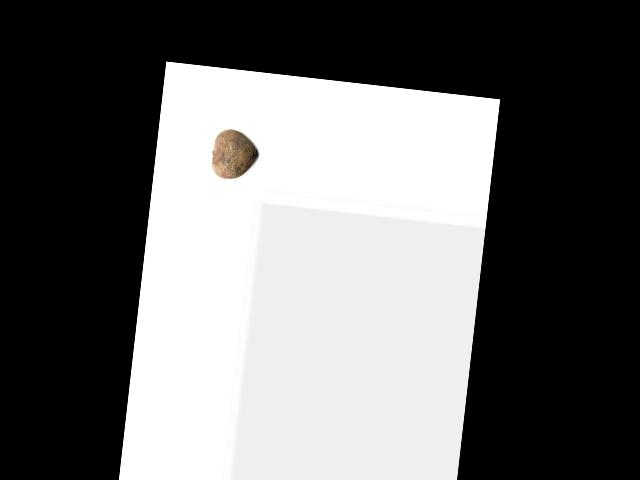beet: (210, 127, 260, 182)
